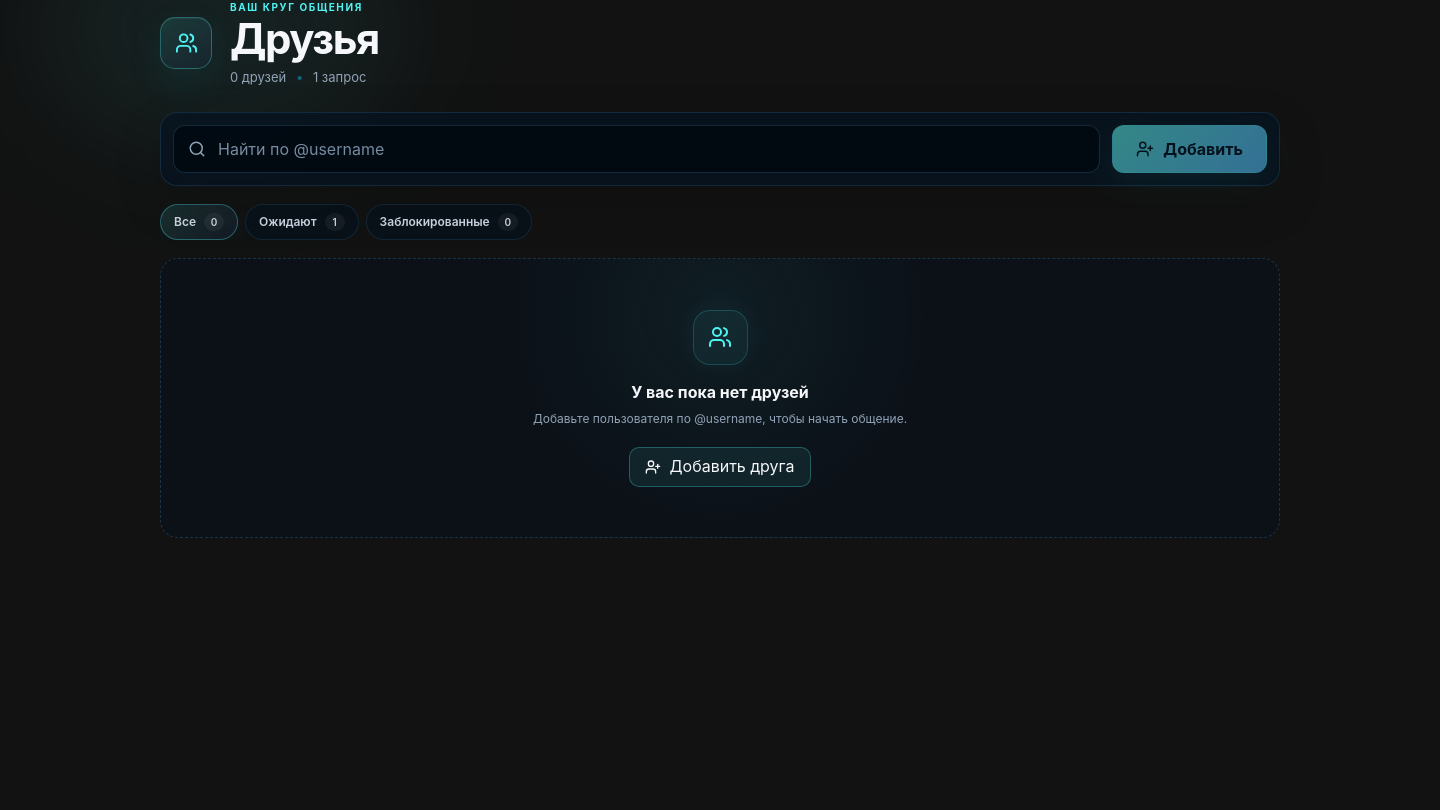
Test: FriendsPage › opens a full profile from a pending request avatar
Click the button "Ожидают 1": click(302, 222) [245, 204, 359, 240]
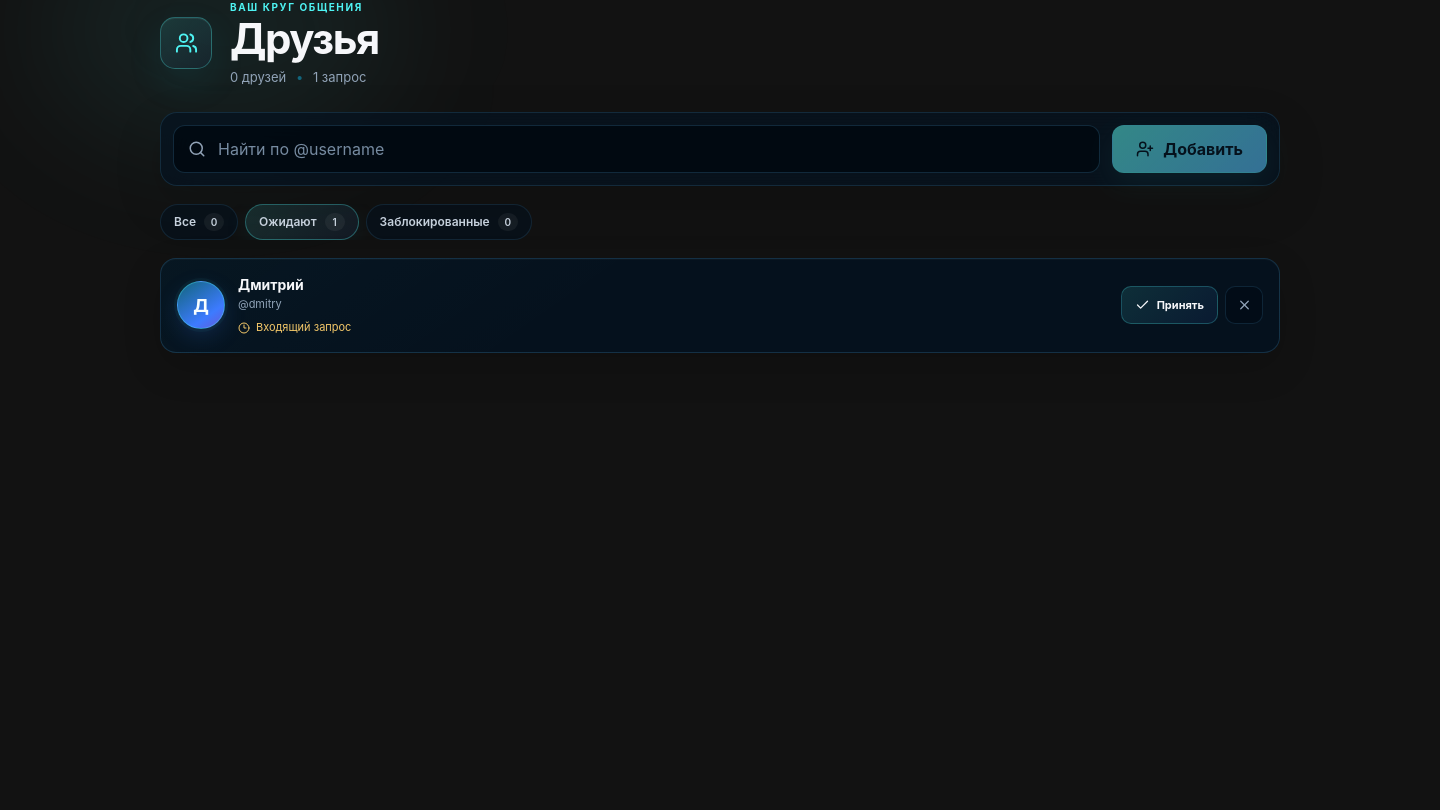
Click the button named "Открыть полный профиль Дмитрий": click(201, 305) [177, 281, 225, 329]
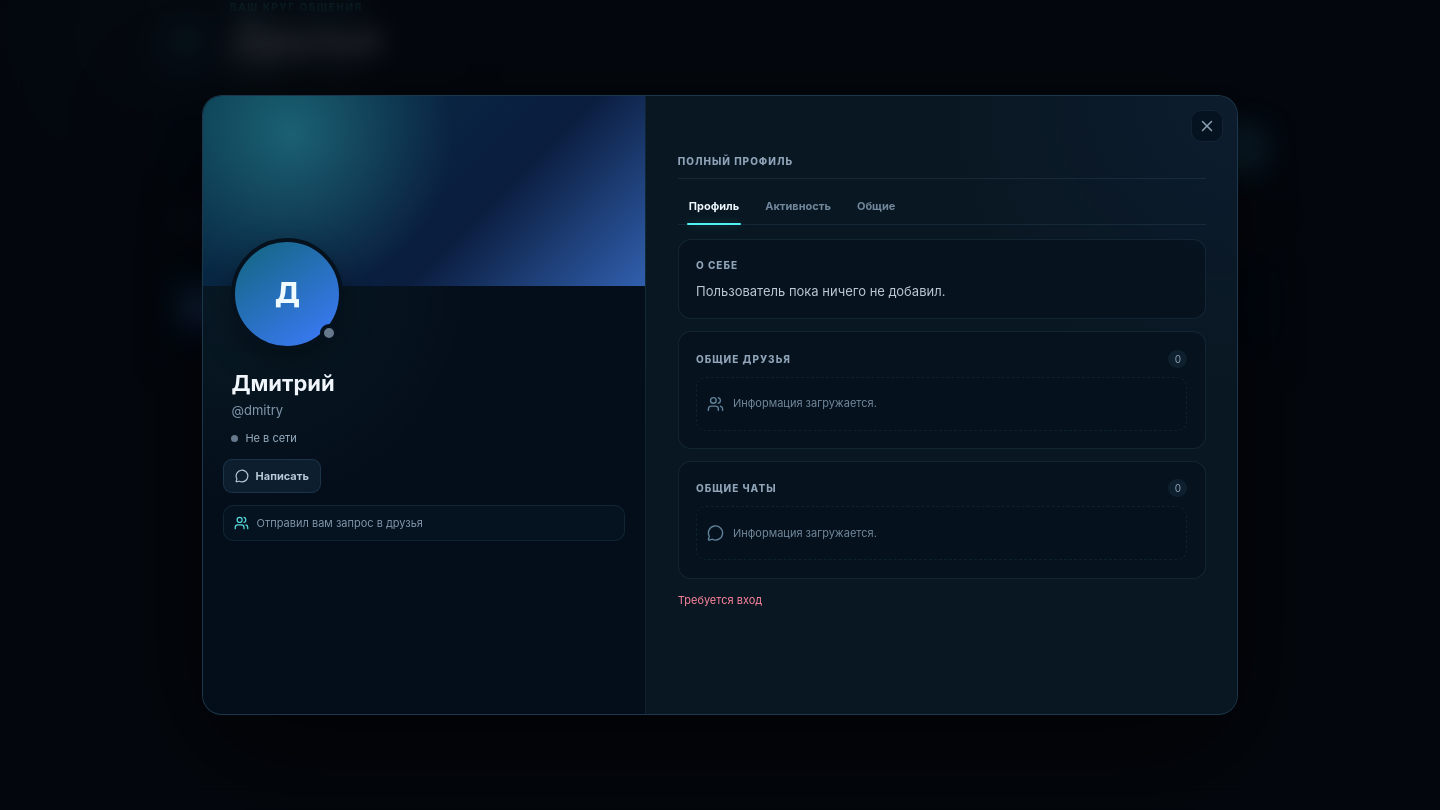
Check: the dialog named "Профиль Дмитрий" is shown, box [202, 95, 1238, 715]
